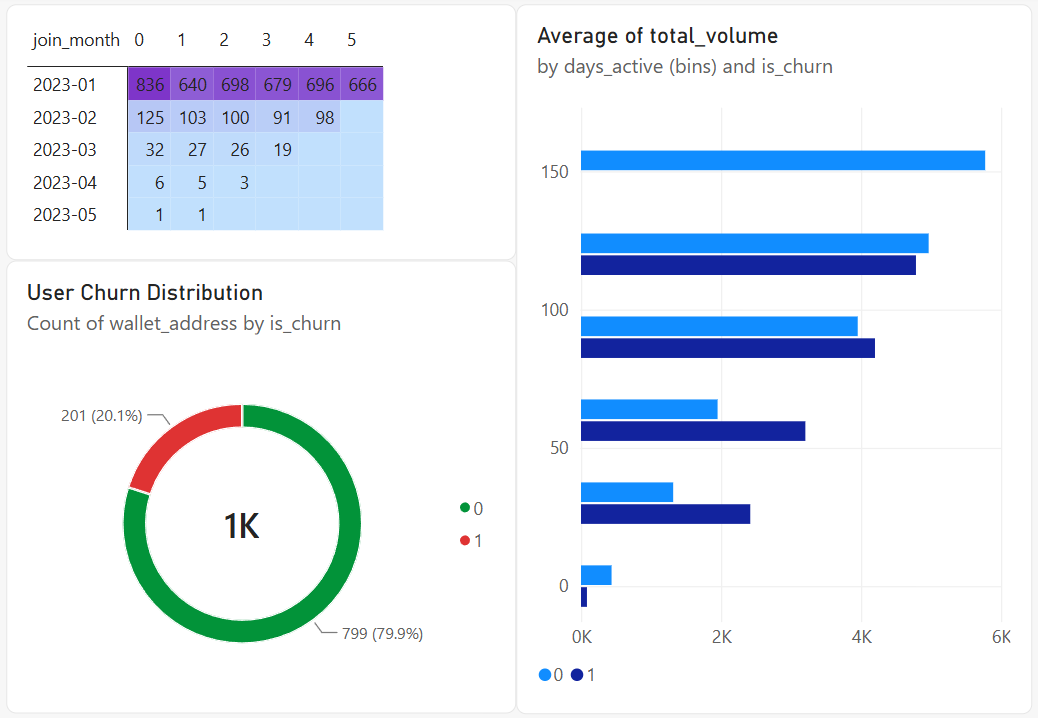

The dashboard page shown, as its layout file describes it:
{"tool":"powerbi","page":{"name":"Page 1","canvas":[1920,1080],"ordinal":0},"visuals":[{"type":"pivotTable","fields":{"Columns":["powerbi_cohorts.month_number"],"Rows":["powerbi_cohorts.join_month"],"Values":["Sum(powerbi_cohorts.active_users)"]},"box":[737,265,408,205],"z":0},{"type":"donutChart","title":"User Churn Distribution","fields":{"Category":["powerbi_ml_users.is_churn"],"Y":["CountNonNull(powerbi_ml_users.wallet_address)"]},"box":[737,470,408,363],"z":1000},{"type":"clusteredBarChart","fields":{"Category":["powerbi_ml_users.days_active (bins)"],"Series":["powerbi_ml_users.is_churn"],"Y":["Avg(powerbi_ml_users.total_volume)"]},"box":[1145,265,412.5,567.5],"z":1001}]}

Visuals, with their boxes on the page's 1920x1080 design canvas (x1, y1, x2, y2). These are canvas units, not pixel positions in the 1038x718 screenshot, which may show the page scaled, cropped or inside an application window:
pivotTable - powerbi_cohorts.month_number x powerbi_cohorts.join_month: {"left": 737, "top": 265, "right": 1145, "bottom": 470}
"User Churn Distribution" donutChart: {"left": 737, "top": 470, "right": 1145, "bottom": 833}
clusteredBarChart - powerbi_ml_users.days_active (bins) x powerbi_ml_users.is_churn: {"left": 1145, "top": 265, "right": 1558, "bottom": 832}
